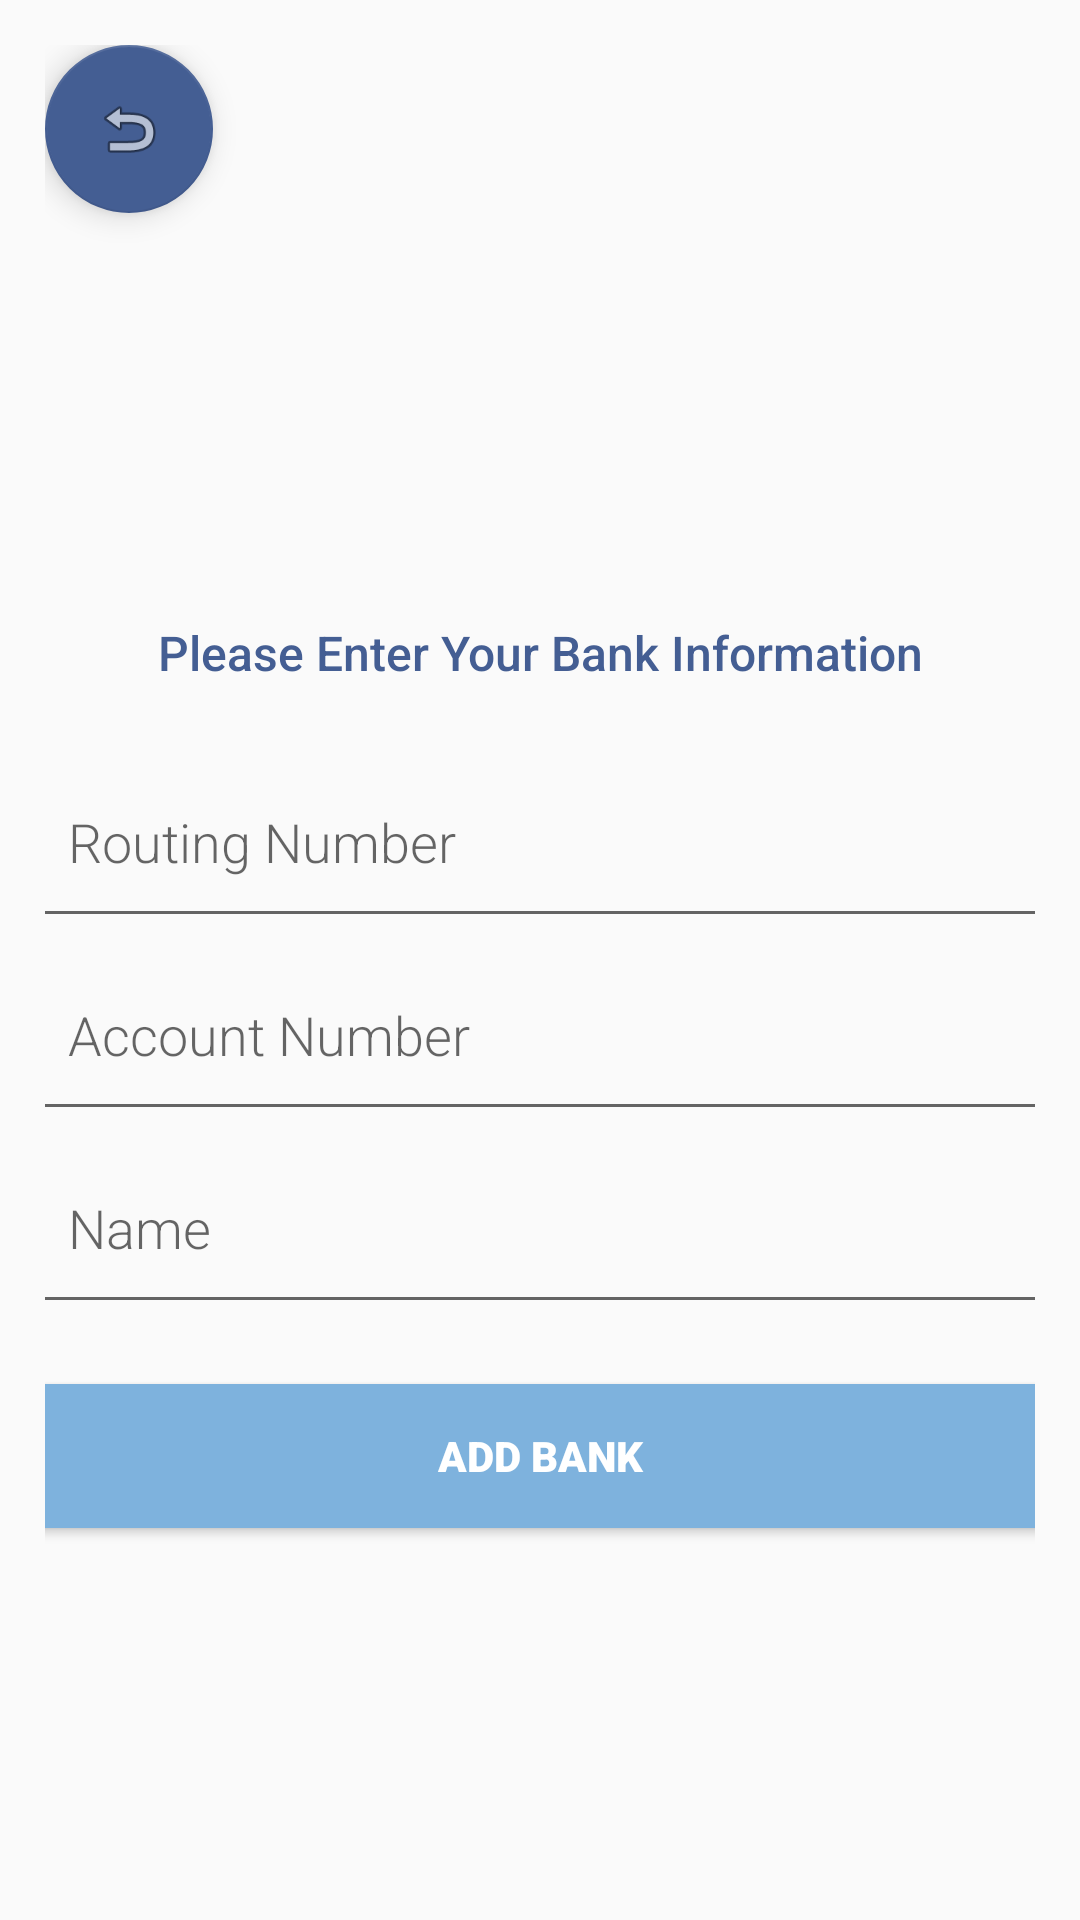

Screen size 1080×1920. Icon name, then its center in pixels as [x,y]:
revert: [129,129]
